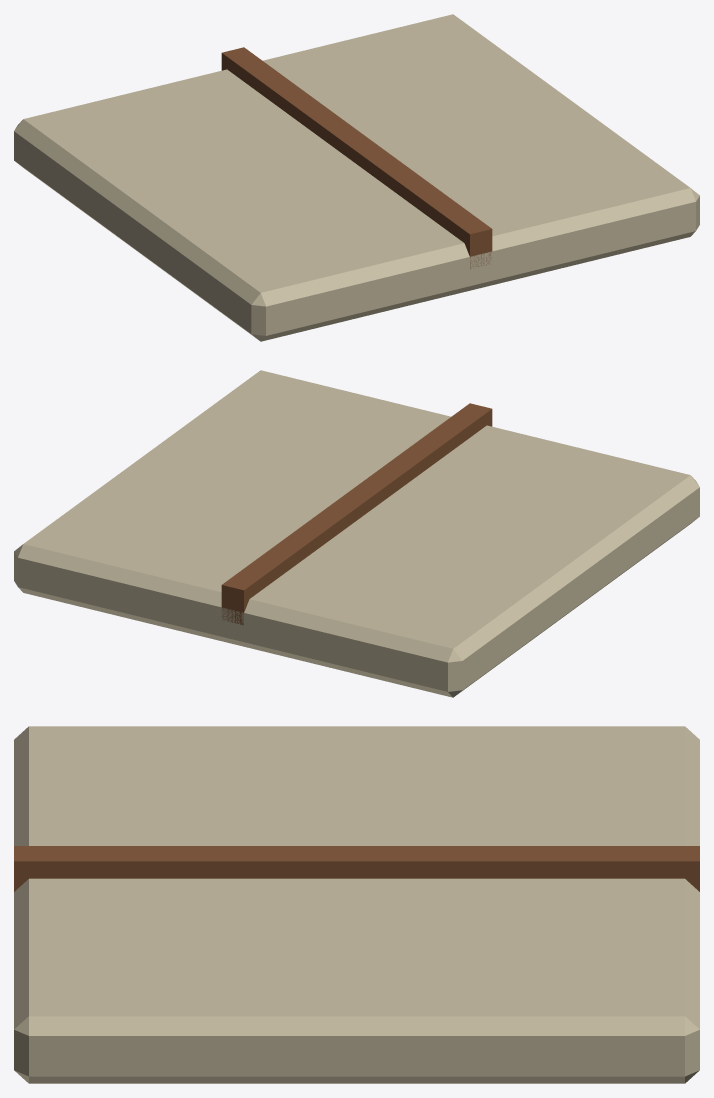
The model's file is set_clipboard.glb.
3 views of the same model, one above another, from view 1: azimuth 30°, elevation 25°; view 2: azimuth 150°, elevation 25°; view 3: azimuth 270°, elevation 25° (orthographic). The views are drawn at different scales.
Visible parts, largest first — view 1: set_clipboard; view 2: set_clipboard; view 3: set_clipboard.
Part boxes in pixels (x1=…): set_clipboard: x1=14, y1=14, x2=699, y2=341; set_clipboard: x1=14, y1=370, x2=699, y2=697; set_clipboard: x1=14, y1=726, x2=699, y2=1083.
Size of the model in its own units: 0.24 by 0.0315 by 0.23.
